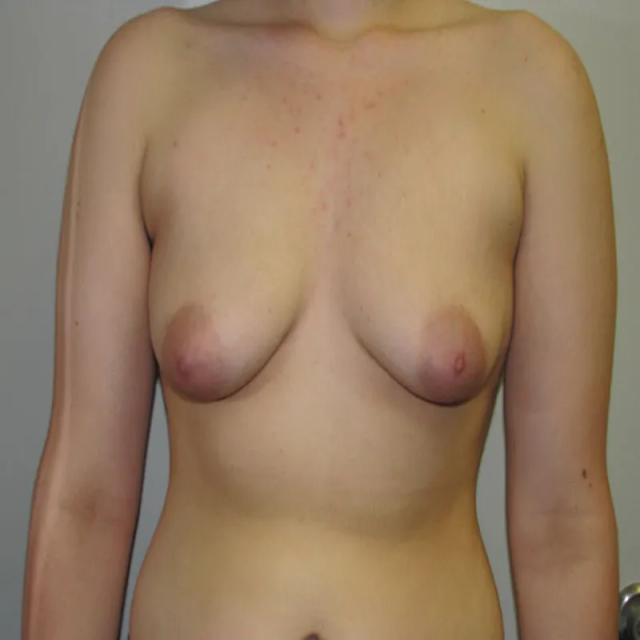Seno ileso: (327, 183, 521, 427), (142, 180, 317, 421)
